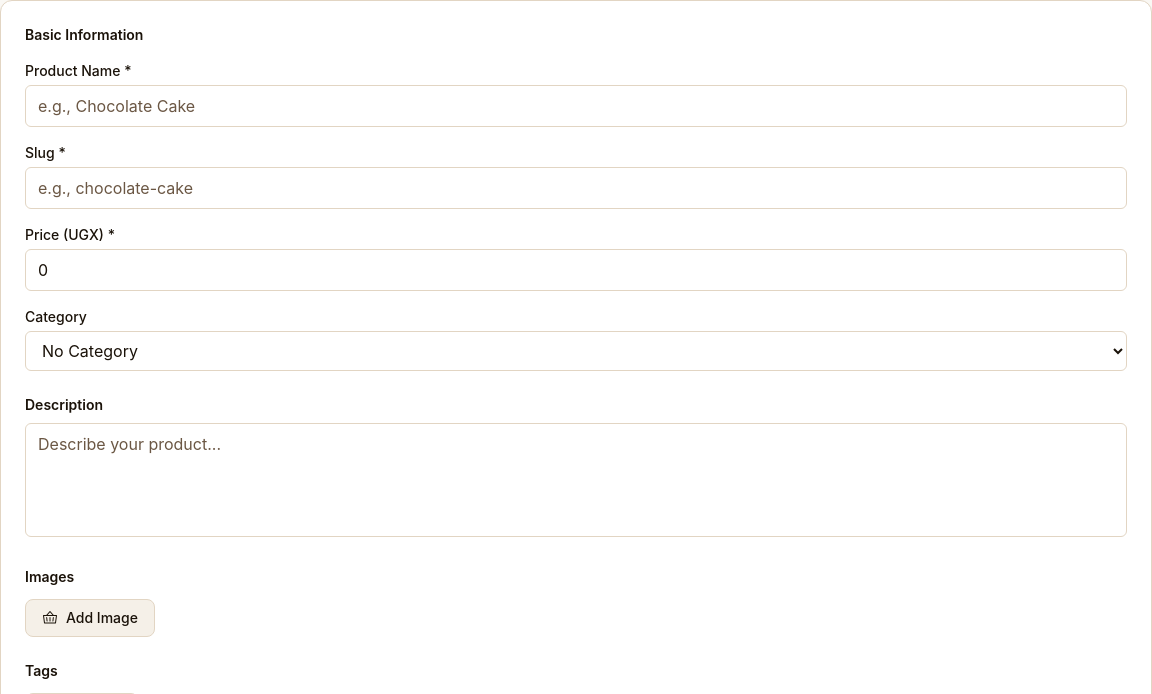
Test: ProductForm › Auto-slug generation › handles special characters in auto-slug generation
Type "Chocolate & Vanilla Cake!" into the field labelled "Product Name *" at [576, 106], box [25,85,1127,127]
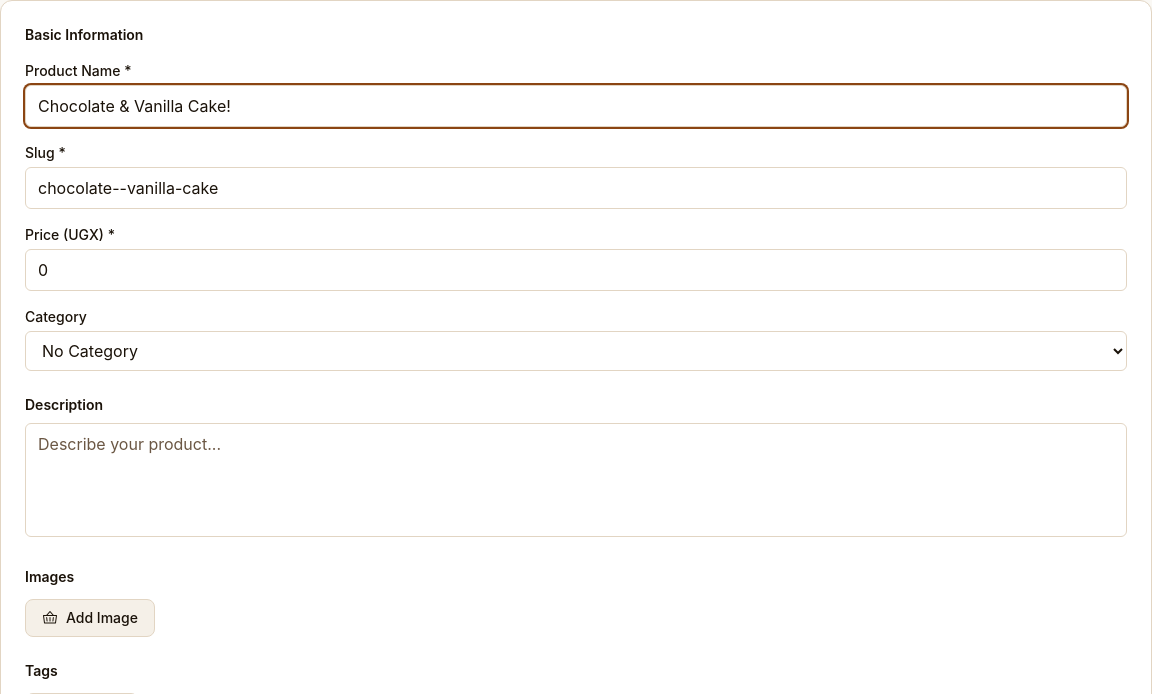
Check: the field labelled "Slug *" holds "chocolate--vanilla-cake", box [25,167,1127,209]
